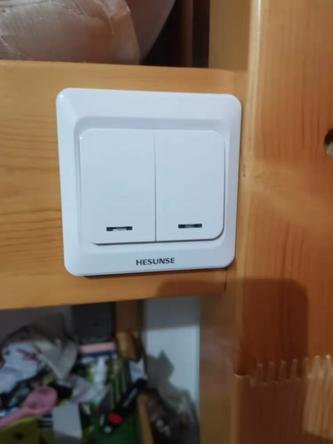switch: (87, 130, 153, 244), (159, 130, 215, 240)
